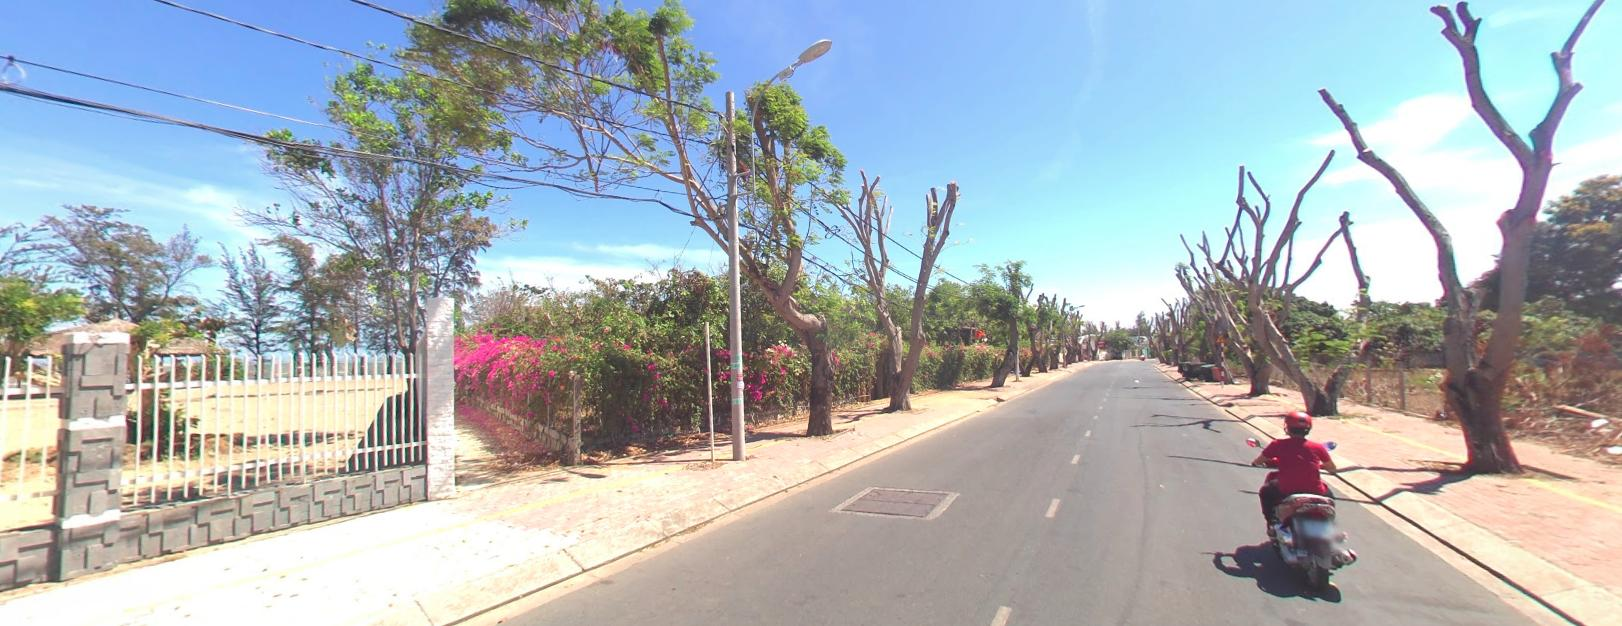Nguy hiem: (1214, 331, 1226, 342)
